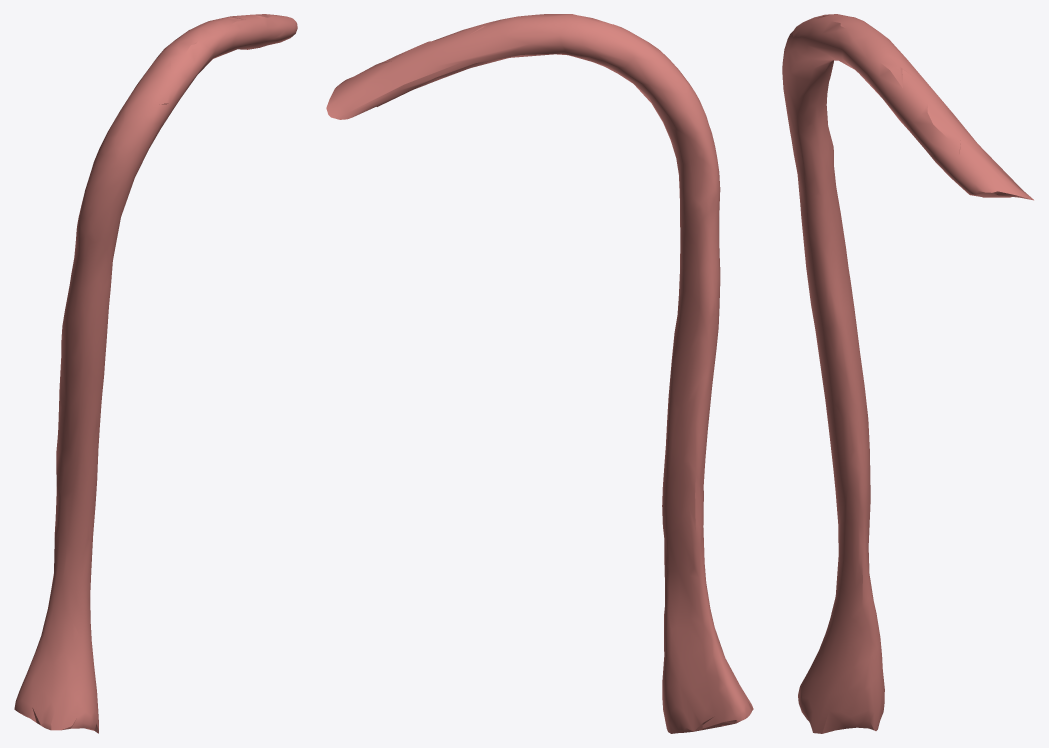
The model's file is fma65152_mm1817.glb.
The picture shows the model from 3 angles, left to right: view 1: azimuth 30°, elevation 25°; view 2: azimuth 150°, elevation 25°; view 3: azimuth 270°, elevation 25°; orthographic projection. The views are drawn at different scales.
Visible parts, largest first — view 1: FMA65152_MM1817; view 2: FMA65152_MM1817; view 3: FMA65152_MM1817.
Boxes of the visible parts, x1=… form: FMA65152_MM1817: x1=14, y1=14, x2=297, y2=733; FMA65152_MM1817: x1=326, y1=14, x2=753, y2=733; FMA65152_MM1817: x1=782, y1=14, x2=1033, y2=733.
Size of the model in its own units: 0.0506 by 0.0944 by 0.028.
